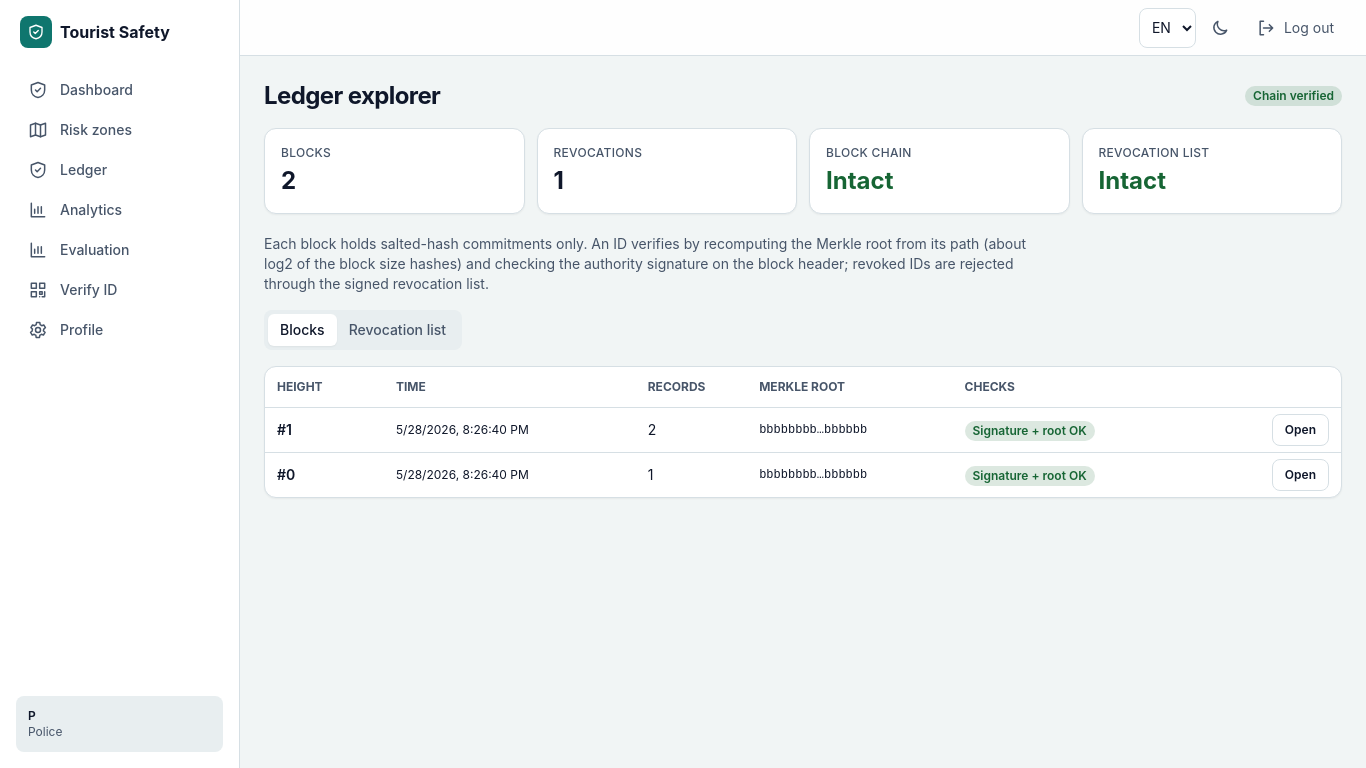
revoking from the explorer needs a reason, posts it and refreshes
Click the button with aria-label "Open block 1".
click(1300, 430)  # box 1272,414 -> 1329,446
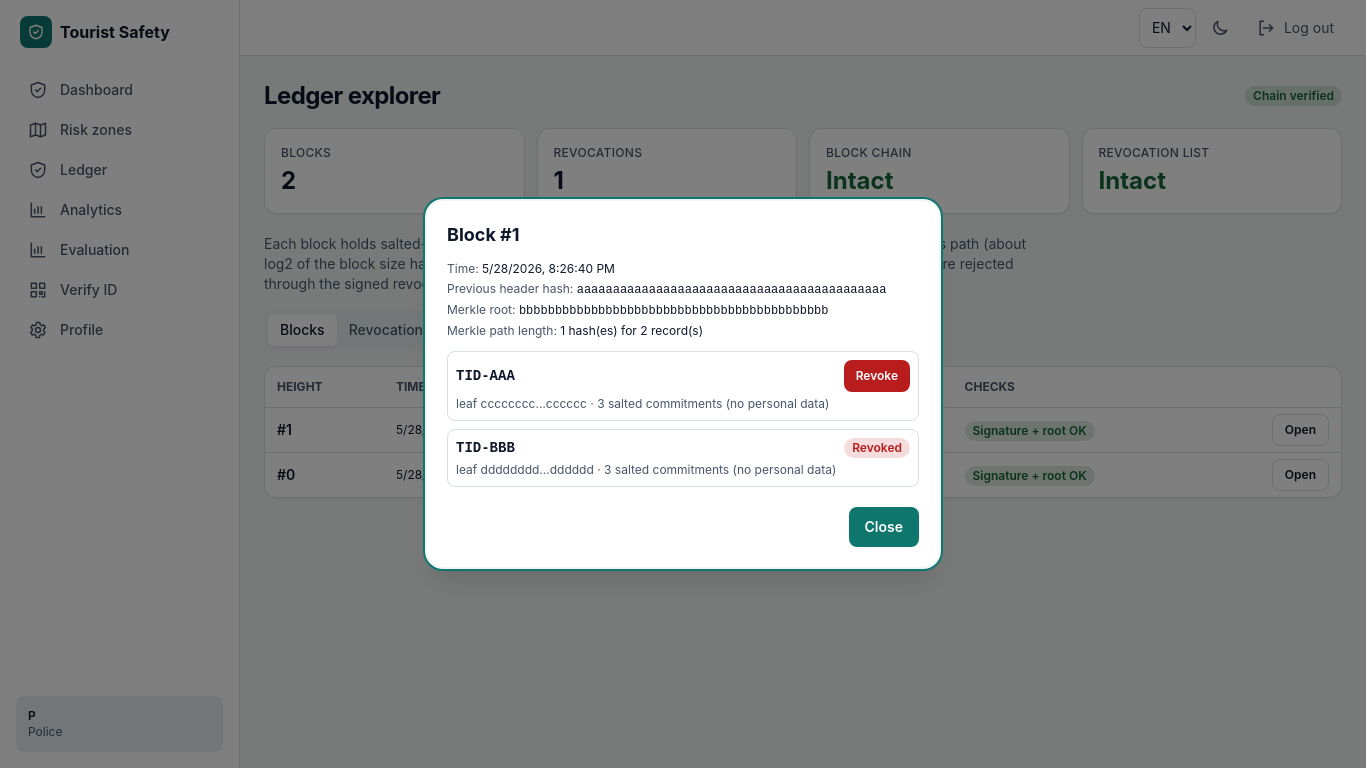
Click the button with aria-label "Revoke TID-AAA".
click(877, 376)  # box 844,360 -> 910,392
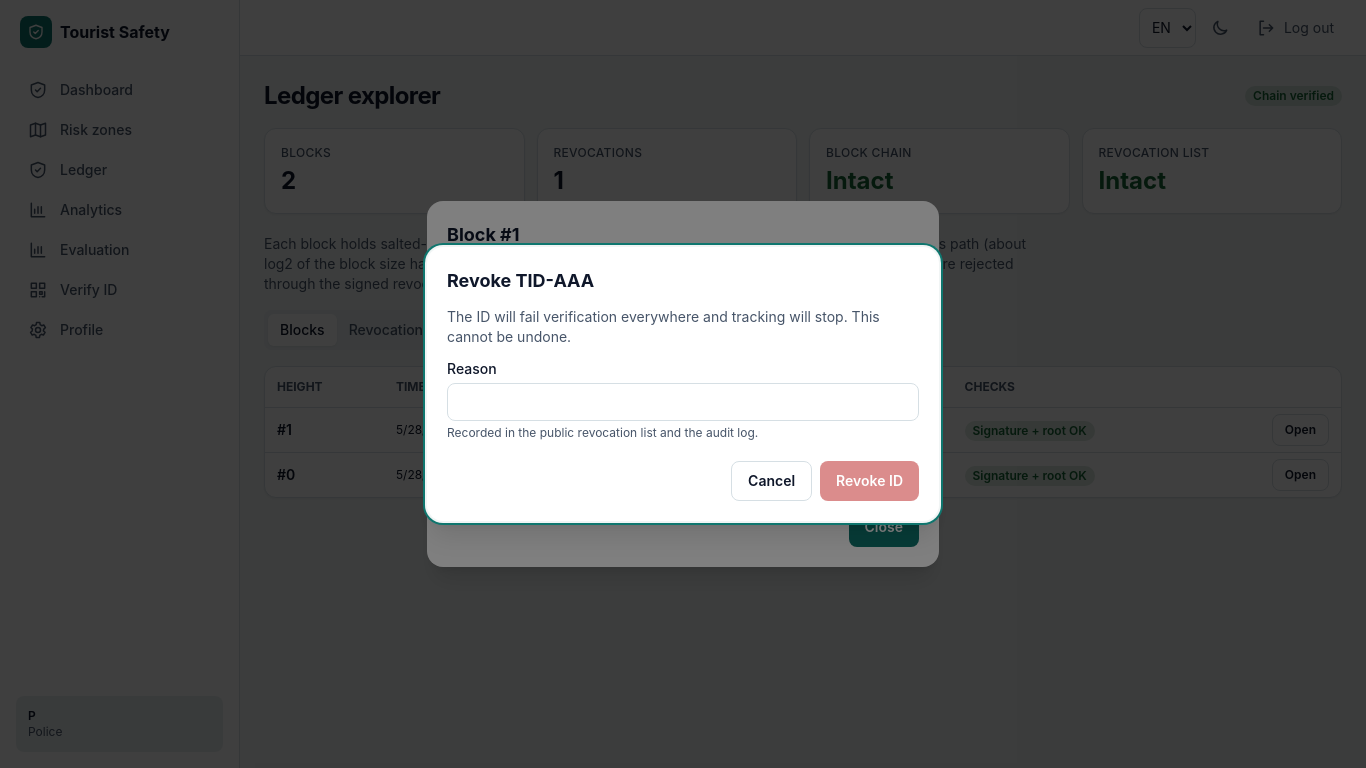
Now the button "Revoke ID" is disabled, box 820,461 -> 919,501
Type "Lost phone" into the field labelled "Reason".
click(683, 402); type("Lost phone")  # box 447,383 -> 919,421
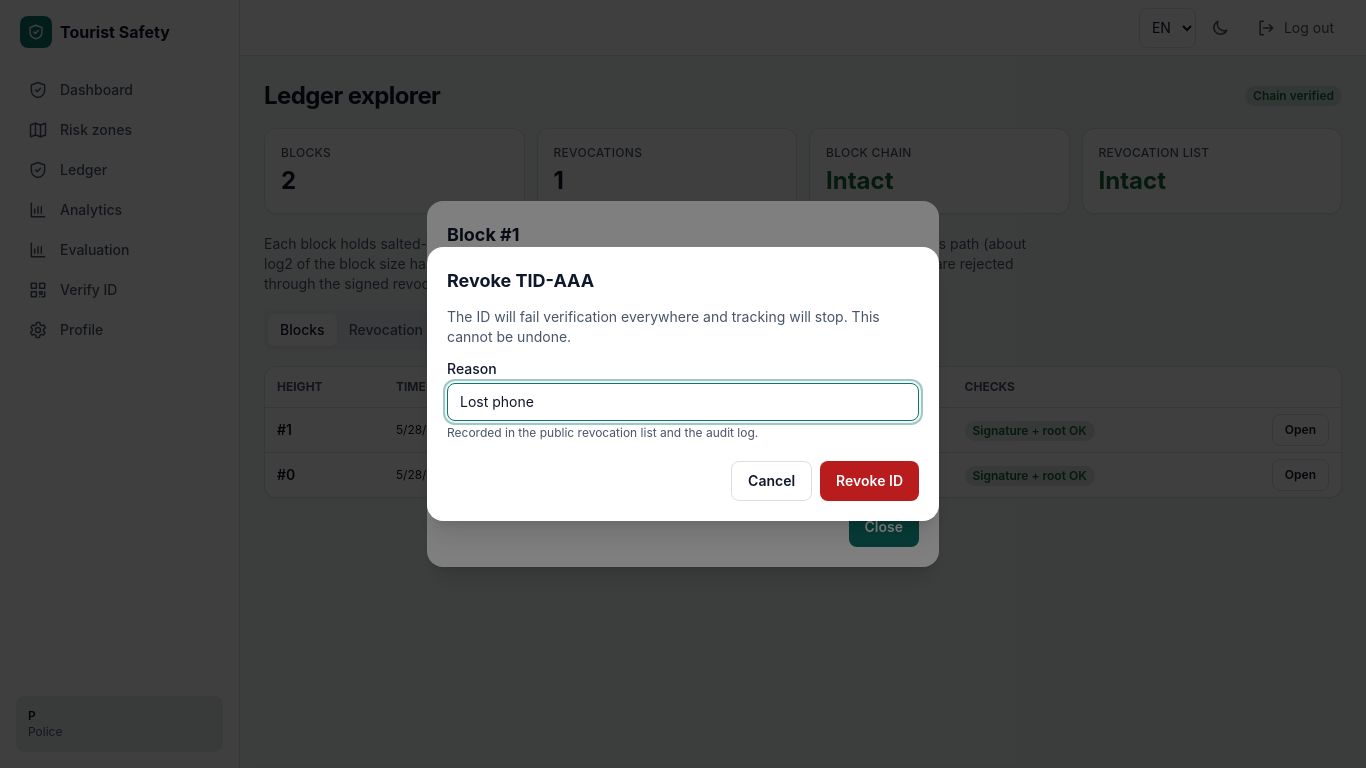
Click the button "Revoke ID".
click(870, 481)  # box 820,461 -> 919,501
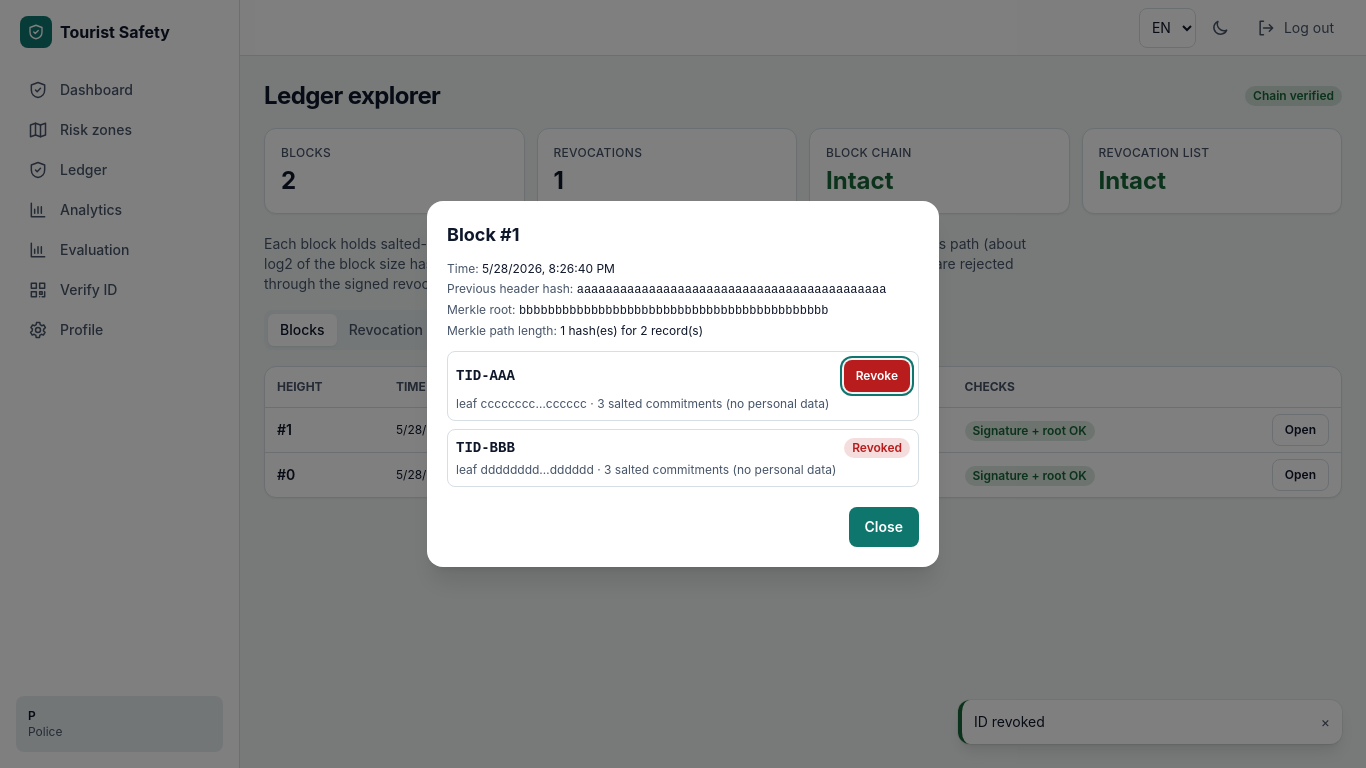
Now the text "ID revoked" is shown, box 974,713 -> 1045,730
